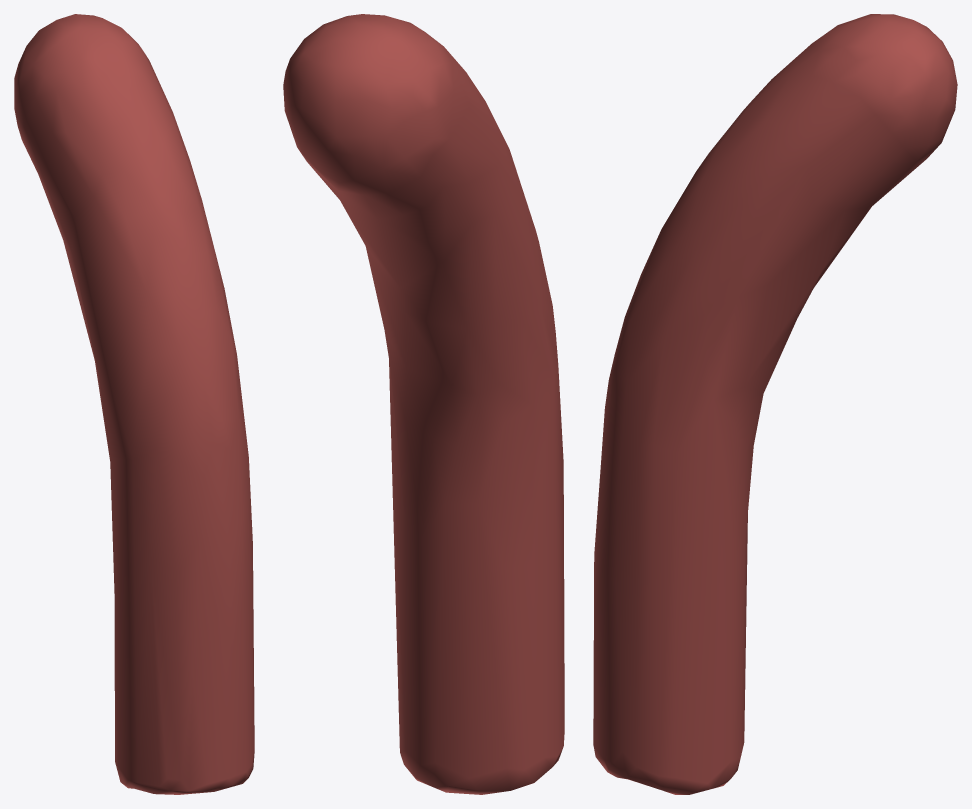
Rendered from FMA14750.glb.
The picture shows the model from 3 angles, left to right: view 1: azimuth 30°, elevation 25°; view 2: azimuth 150°, elevation 25°; view 3: azimuth 270°, elevation 25°; orthographic projection. The views are drawn at different scales.
Visible parts, largest first — view 1: FMA14750; view 2: FMA14750; view 3: FMA14750.
Part boxes in pixels (x1=…): FMA14750: x1=14, y1=14, x2=254, y2=794; FMA14750: x1=283, y1=14, x2=564, y2=794; FMA14750: x1=593, y1=14, x2=957, y2=794.
Bounding box in the file's own units: 0.0105 × 0.0543 × 0.0239.
